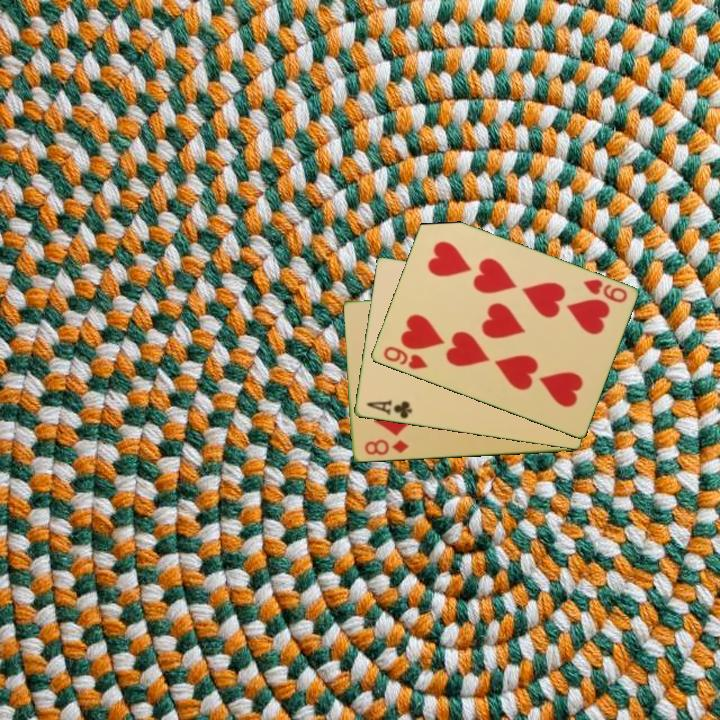8d: (361, 436, 411, 458)
9h: (579, 276, 630, 306), (380, 343, 430, 373)
Ac: (363, 396, 414, 422)
